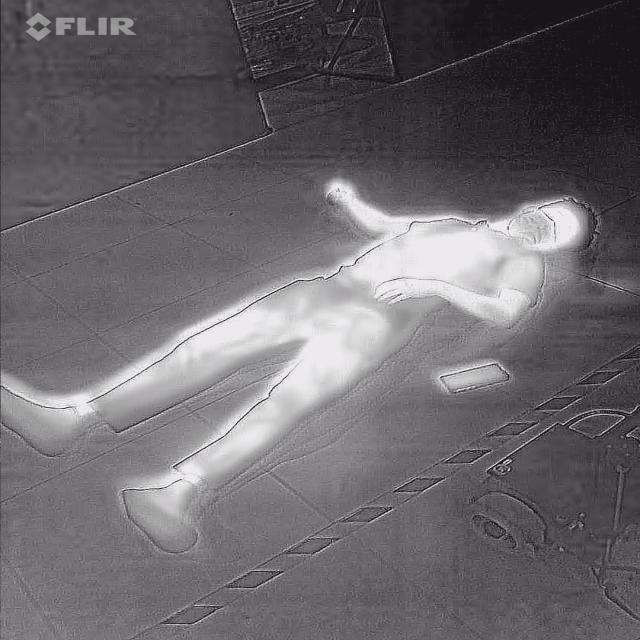Victim: (0, 170, 607, 560)
